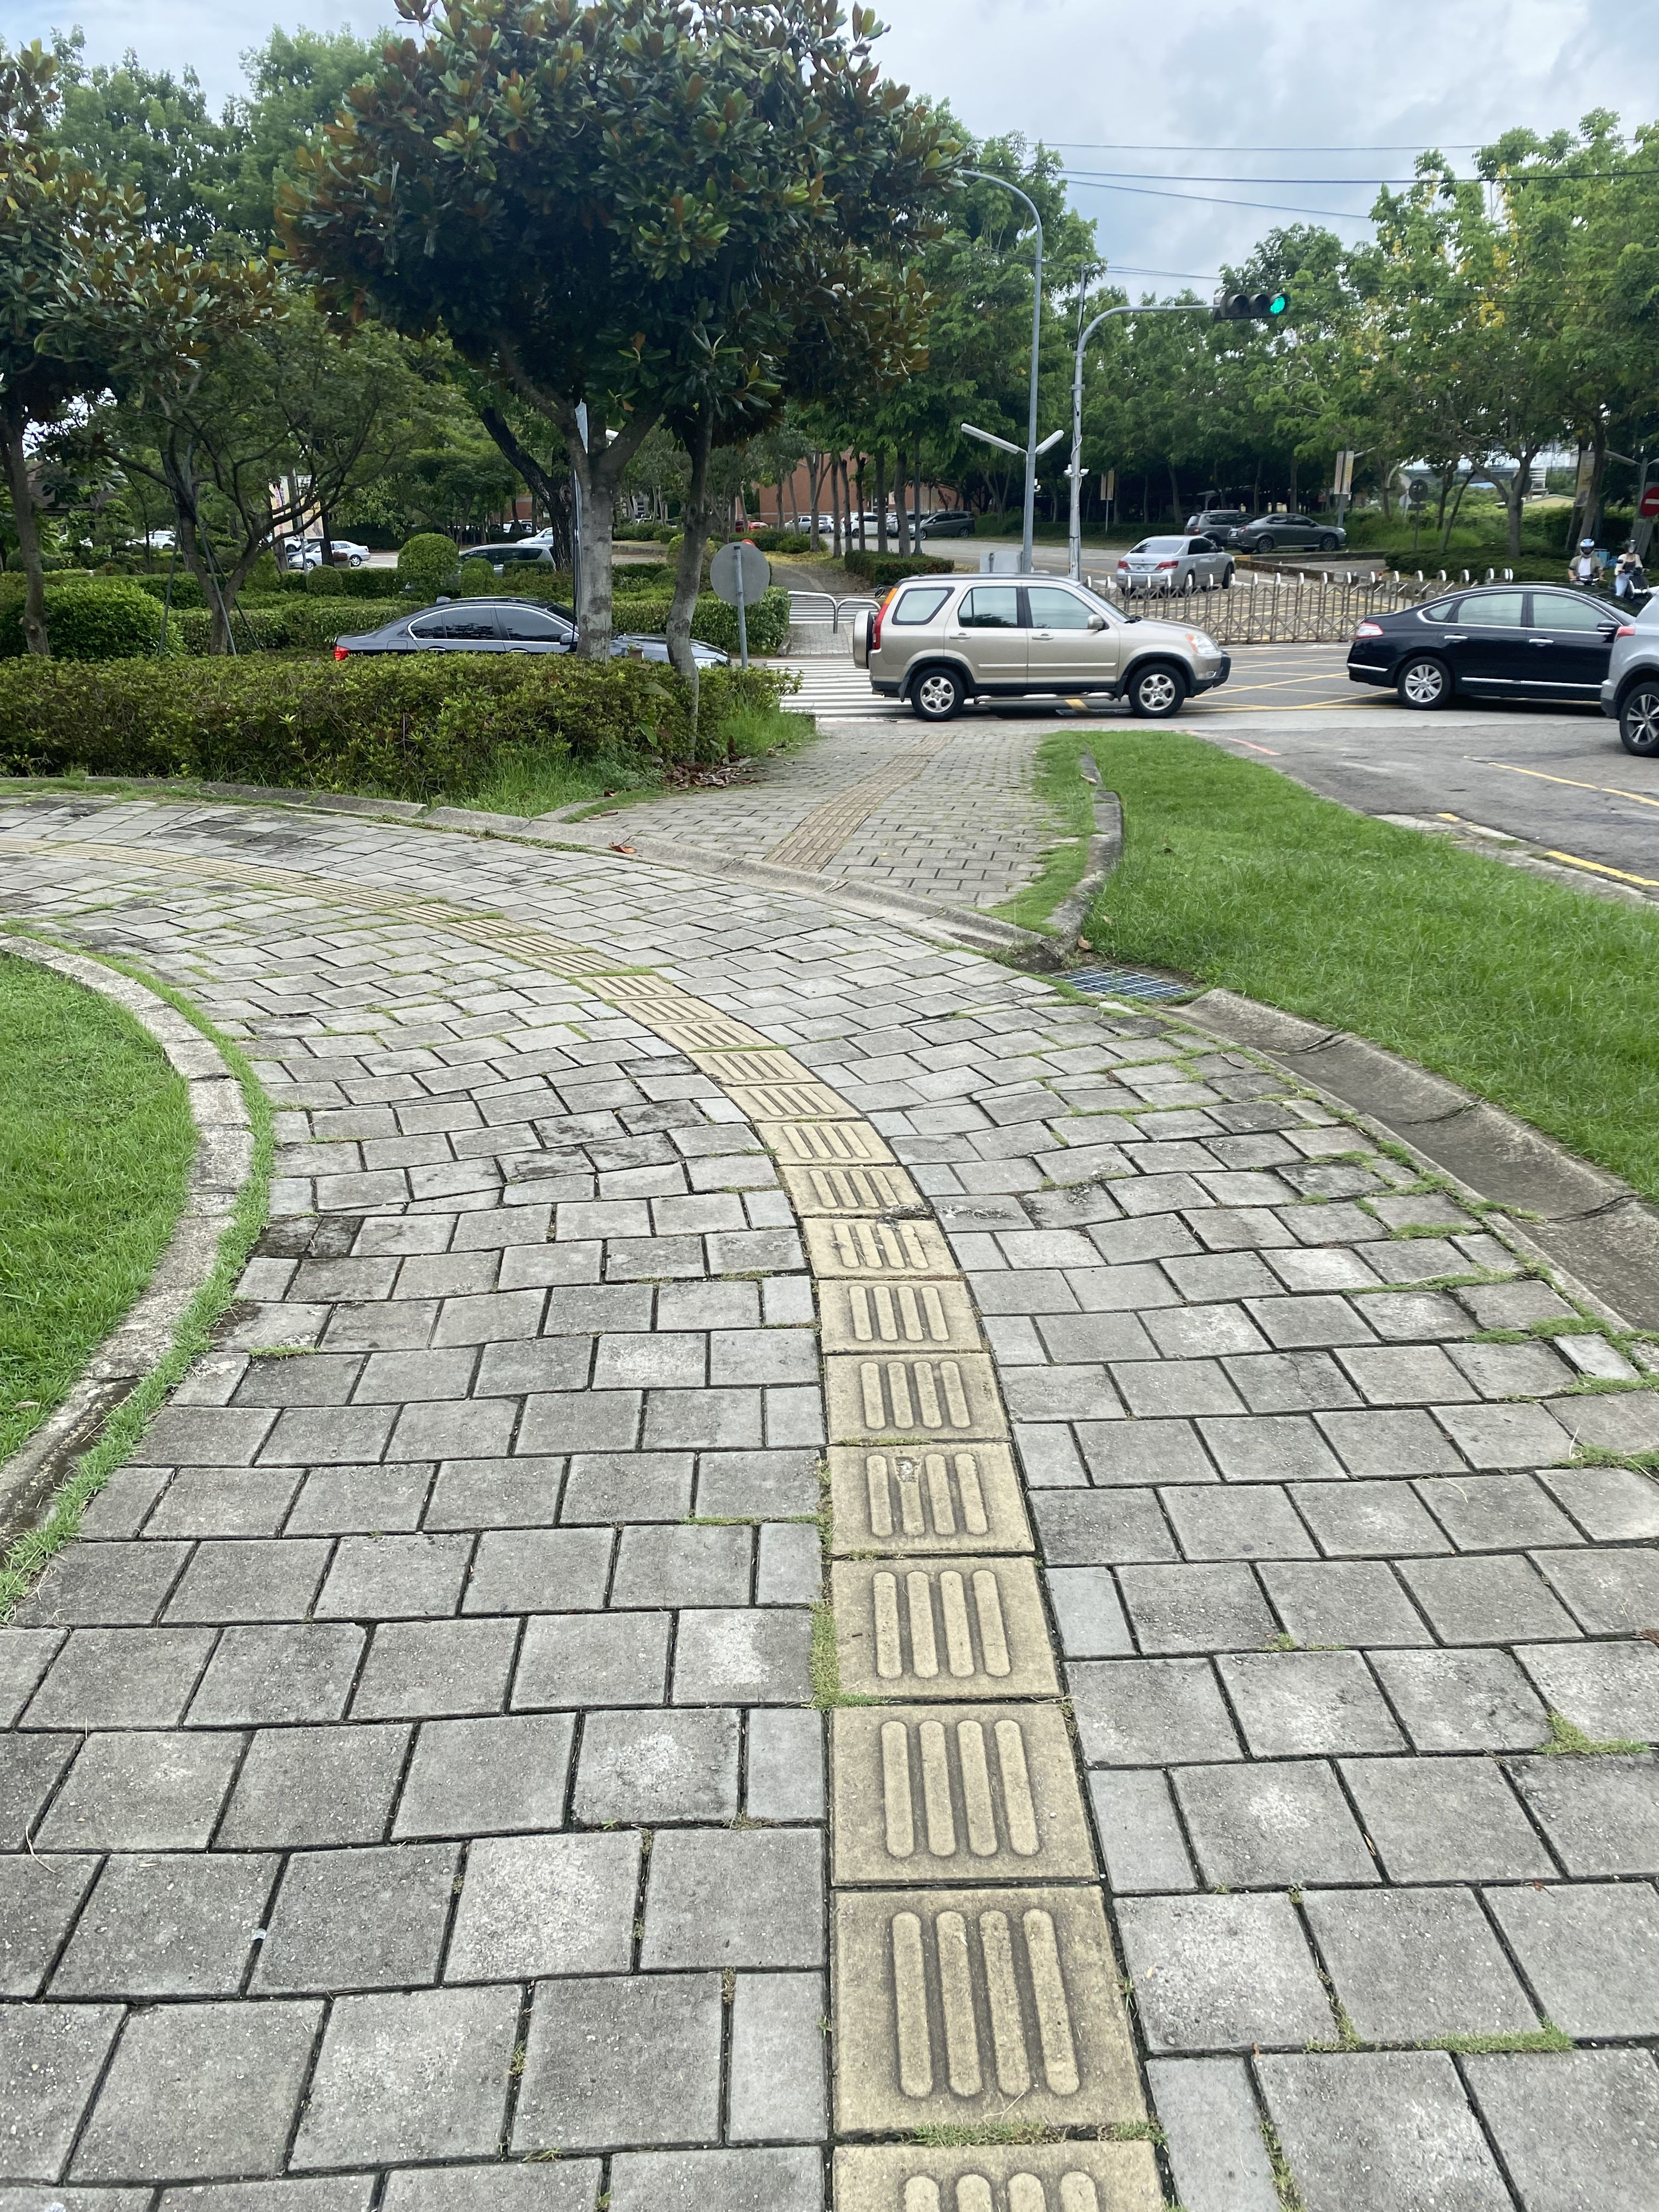sidewalk: (7, 765, 1659, 2212)
